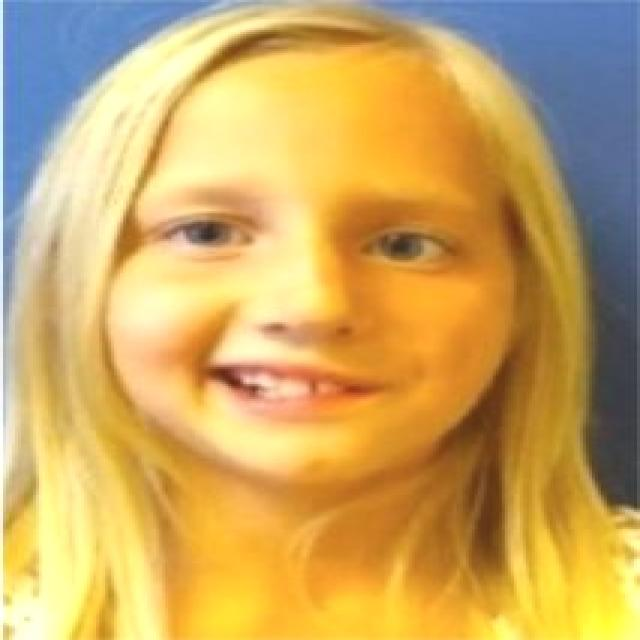stroke_face: (88, 12, 558, 488)
